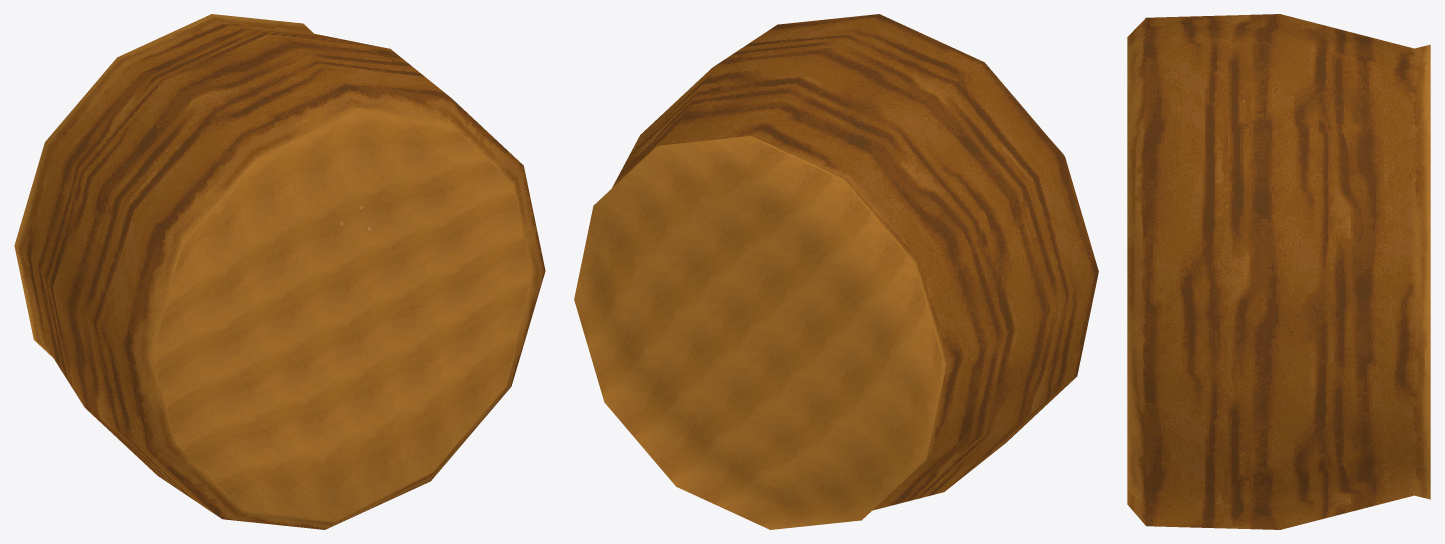
File: SM_AP_Pillar_30m_0.glb
3 views of the same model, side by side, from view 1: azimuth 30°, elevation 25°; view 2: azimuth 150°, elevation 25°; view 3: azimuth 270°, elevation 25° (orthographic). The views are drawn at different scales.
Parts seen in each view (by area): view 1: SM_AP_Pillar_30m_0; view 2: SM_AP_Pillar_30m_0; view 3: SM_AP_Pillar_30m_0.
Part boxes in pixels (x1,y1,x2,y2): SM_AP_Pillar_30m_0: [14, 14, 545, 529]; SM_AP_Pillar_30m_0: [574, 14, 1098, 529]; SM_AP_Pillar_30m_0: [1127, 14, 1430, 529].
Bounding box in the file's own units: 31.36 × 31.37 × 18.47.
Materials: 1 (1 with a texture image).
